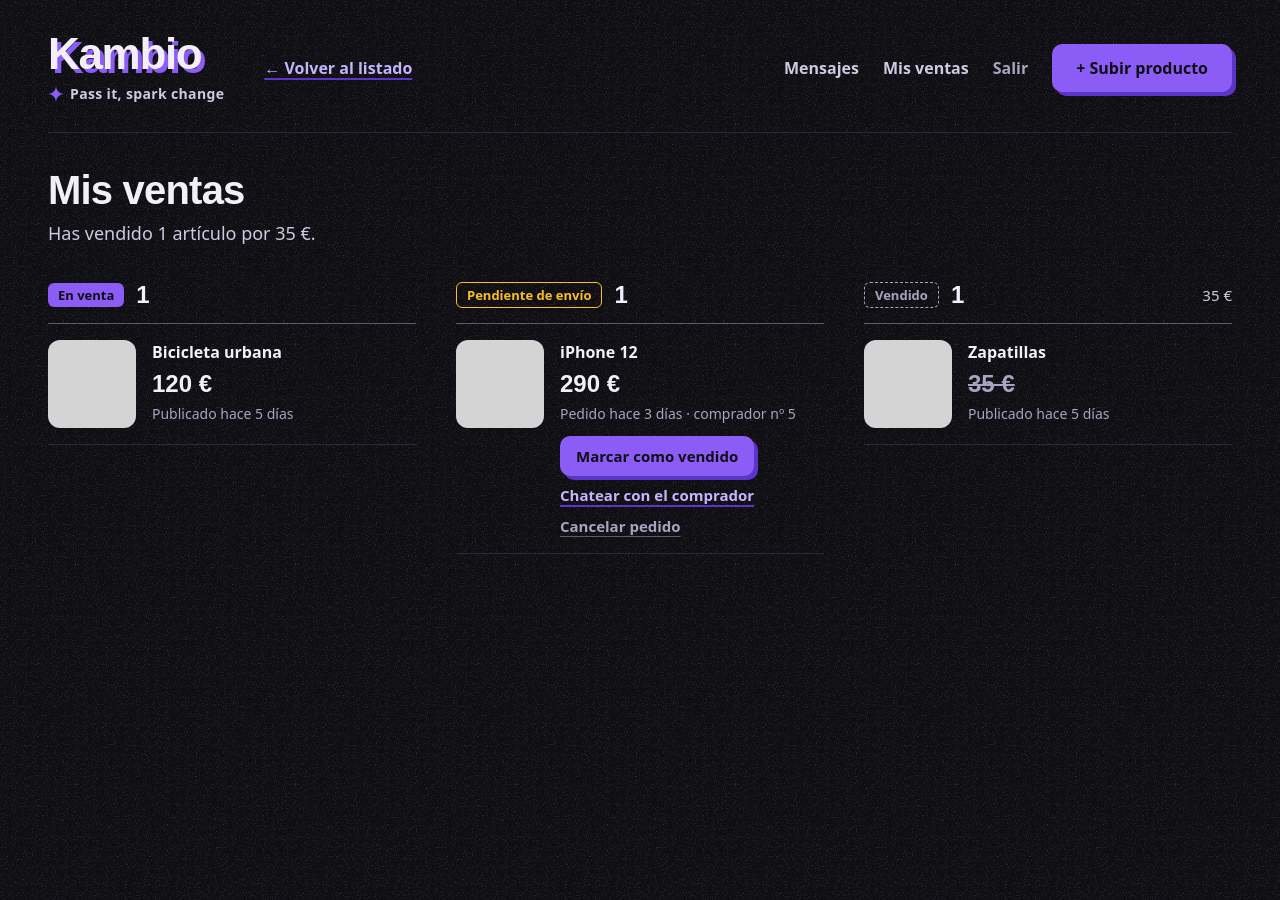
Test case: SalesPage › pide confirmación y, al marcarlo como vendido, el artículo pasa a la columna Vendido
Click the button "Marcar como vendido": click(657, 456) [560, 436, 754, 476]
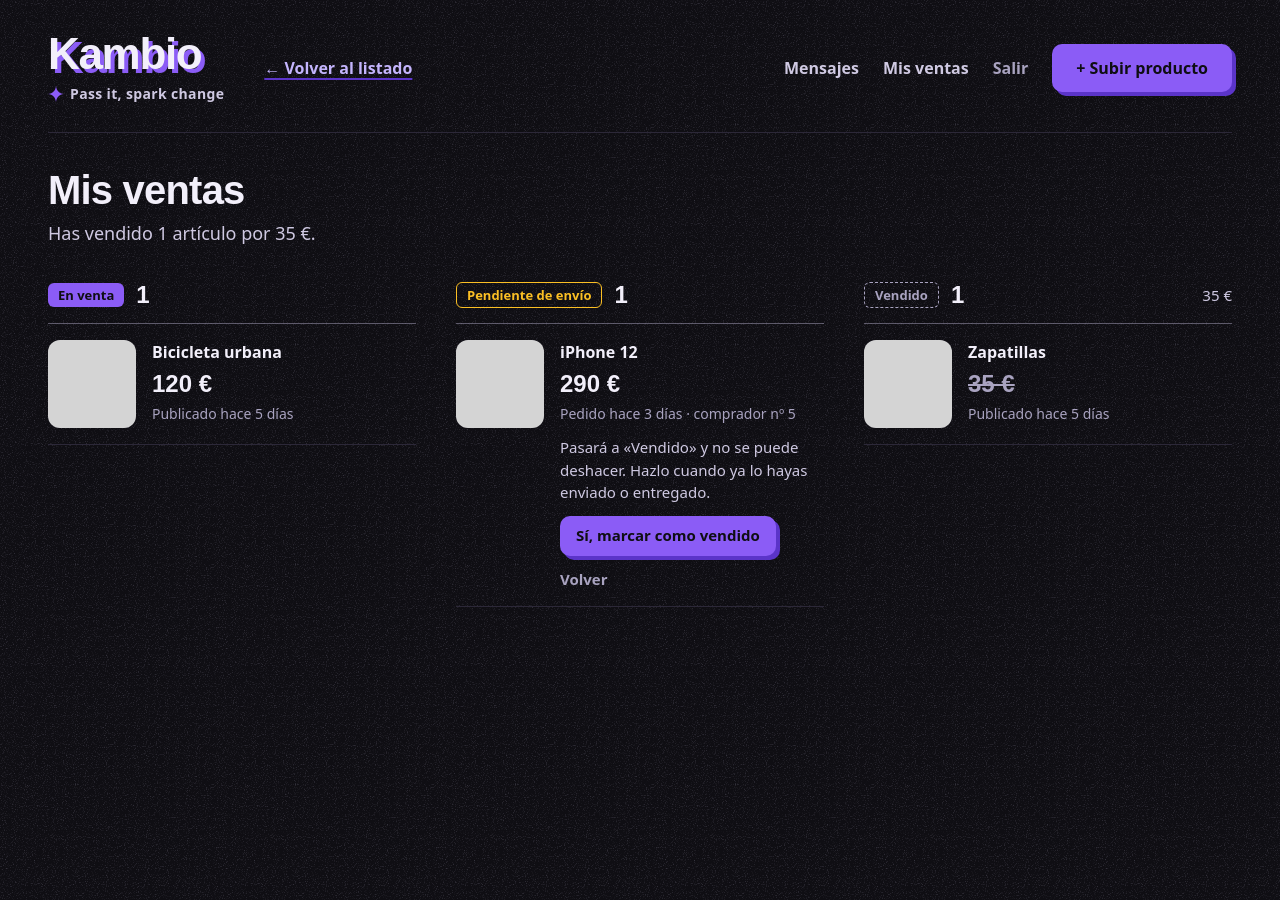
Check: the text "no se puede deshacer" is shown, box [560, 437, 808, 502]
Click the button "Sí, marcar como vendido": click(668, 536) [560, 516, 776, 556]
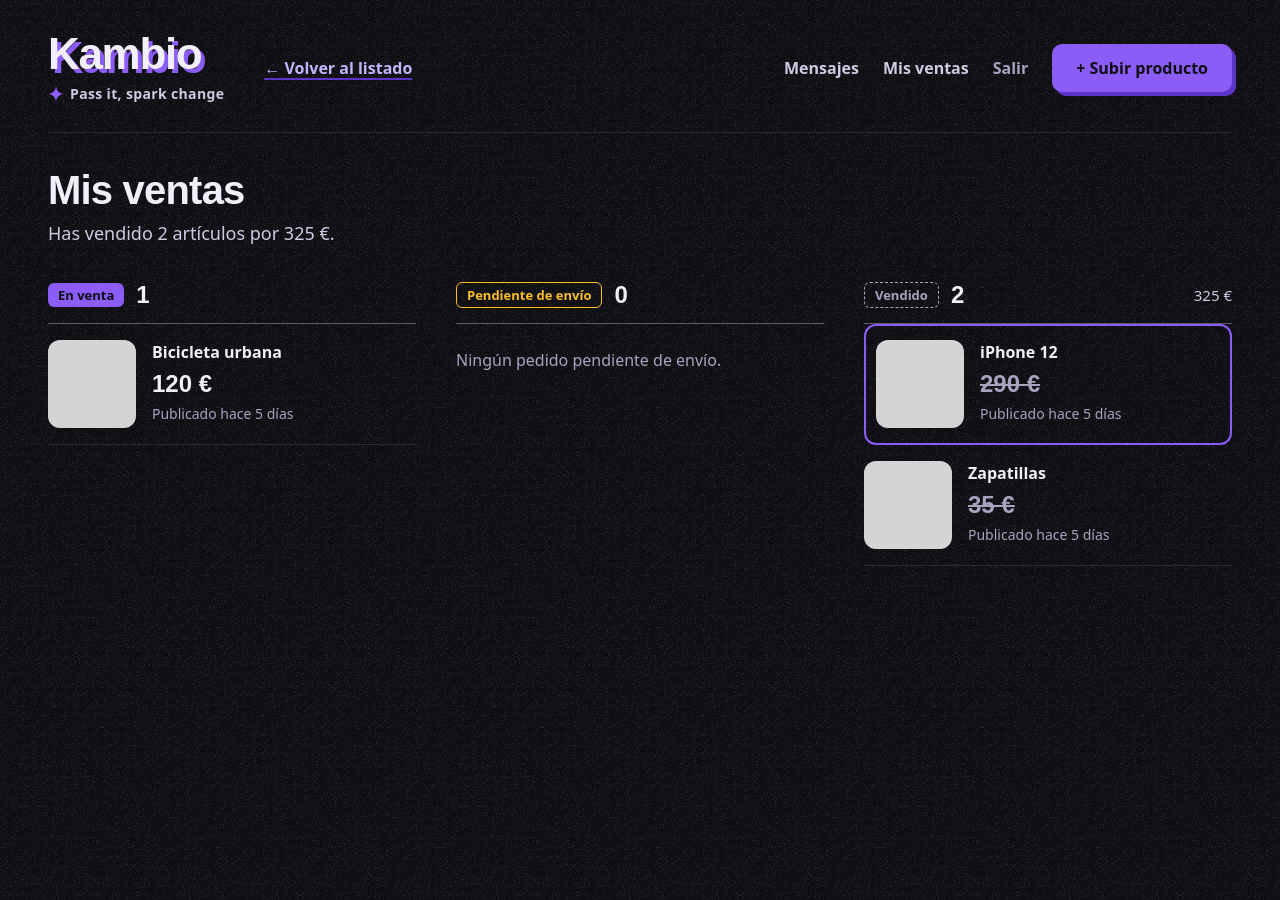
Check: the link "iPhone 12" is shown, box [980, 341, 1058, 363]
Check: the text "Has vendido 2 artículos por 325 €." is shown, box [48, 219, 335, 247]
